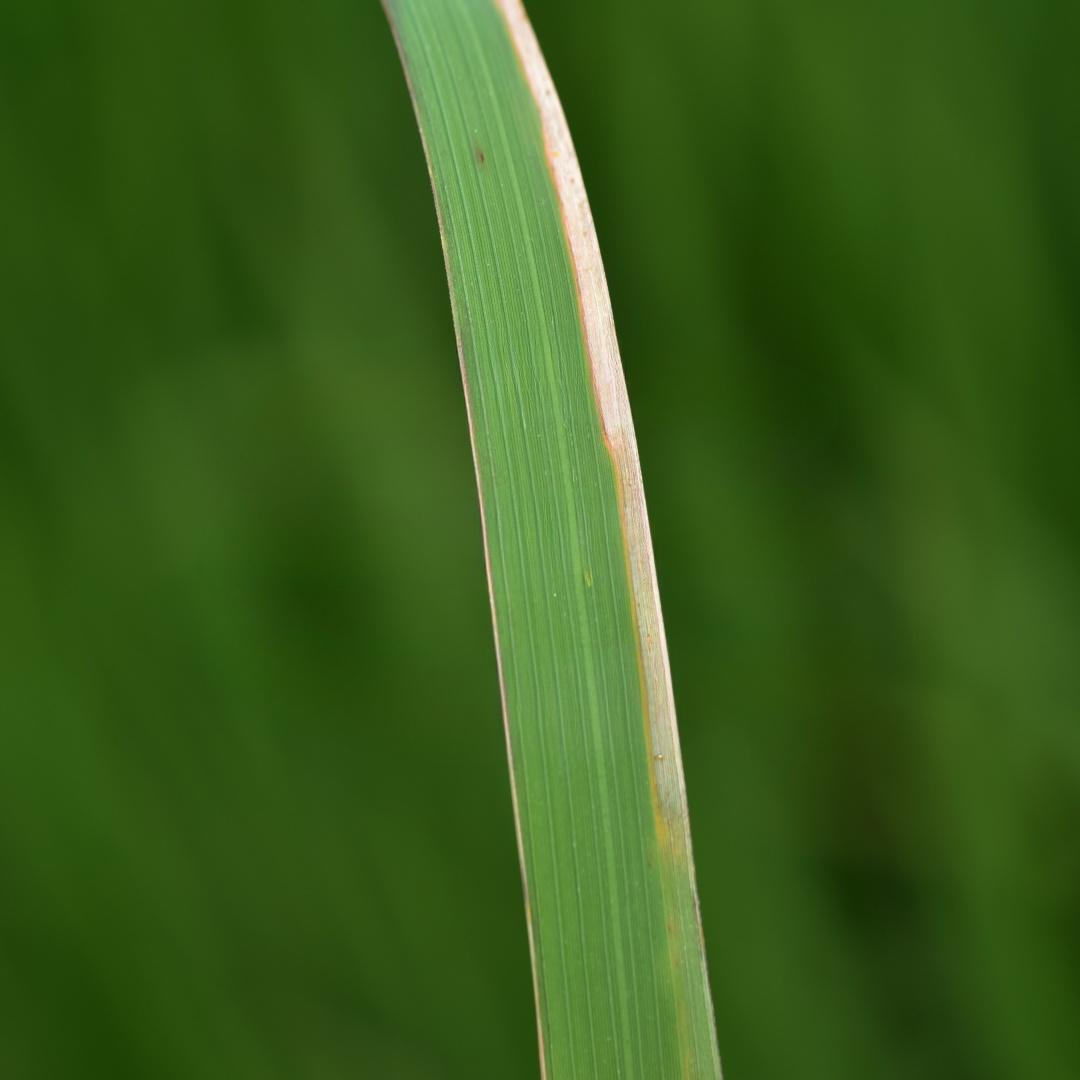BLB: (495, 0, 700, 921)
LEAF: (383, 0, 721, 1079)
